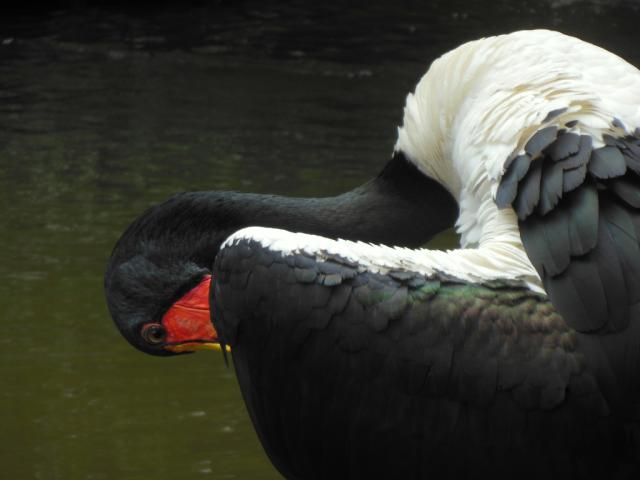Bird: (102, 30, 640, 480)
